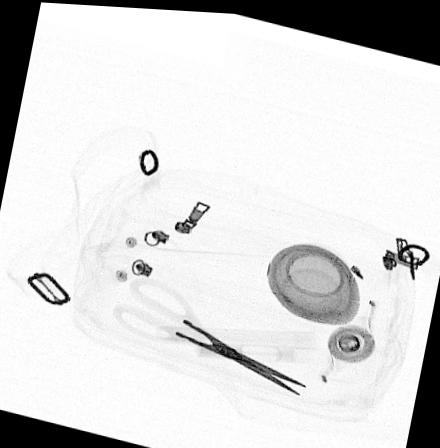Scissors: (109, 270, 310, 393)
